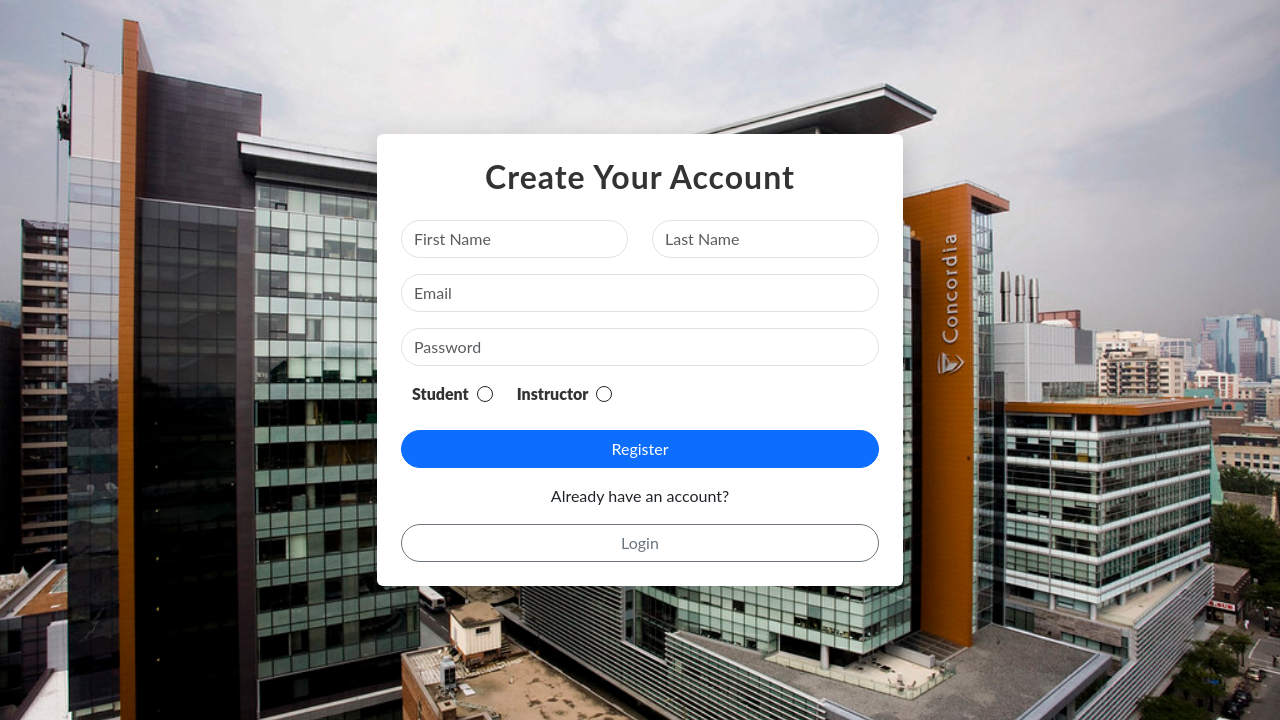
it: Register Component › displays an error message on failed submission
Type "Jane" into the field with placeholder "First Name" at point(514, 239), box x1=401 y1=220 x2=628 y2=258
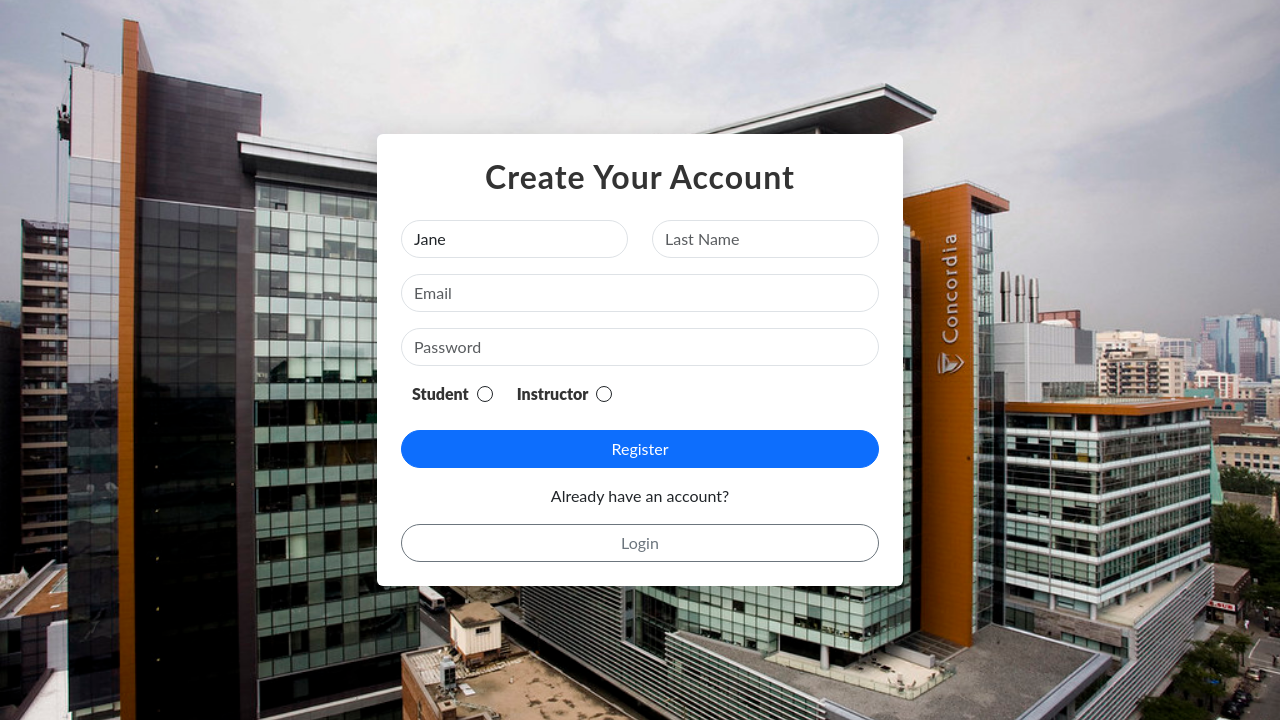
Type "Doe" into the field with placeholder "Last Name" at point(766, 239), box x1=652 y1=220 x2=879 y2=258
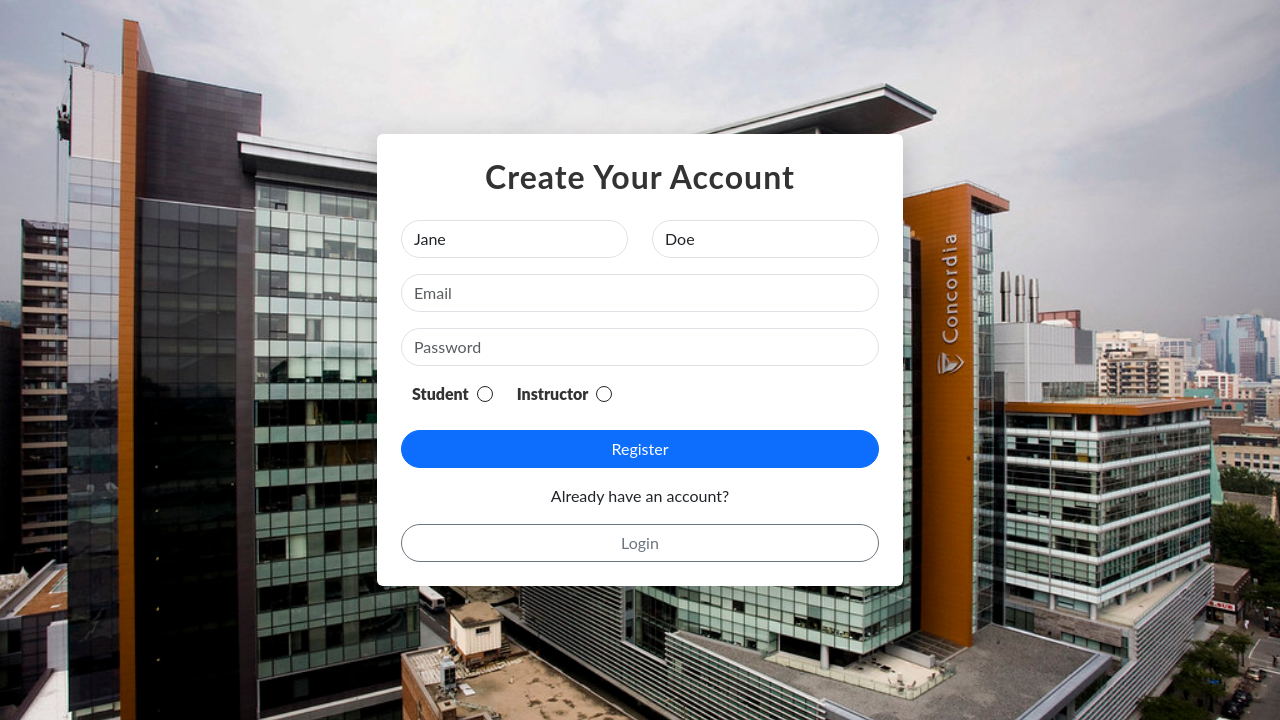
Type "janedoe@example.com" into the field with placeholder "Email" at point(640, 293), box x1=401 y1=274 x2=879 y2=312
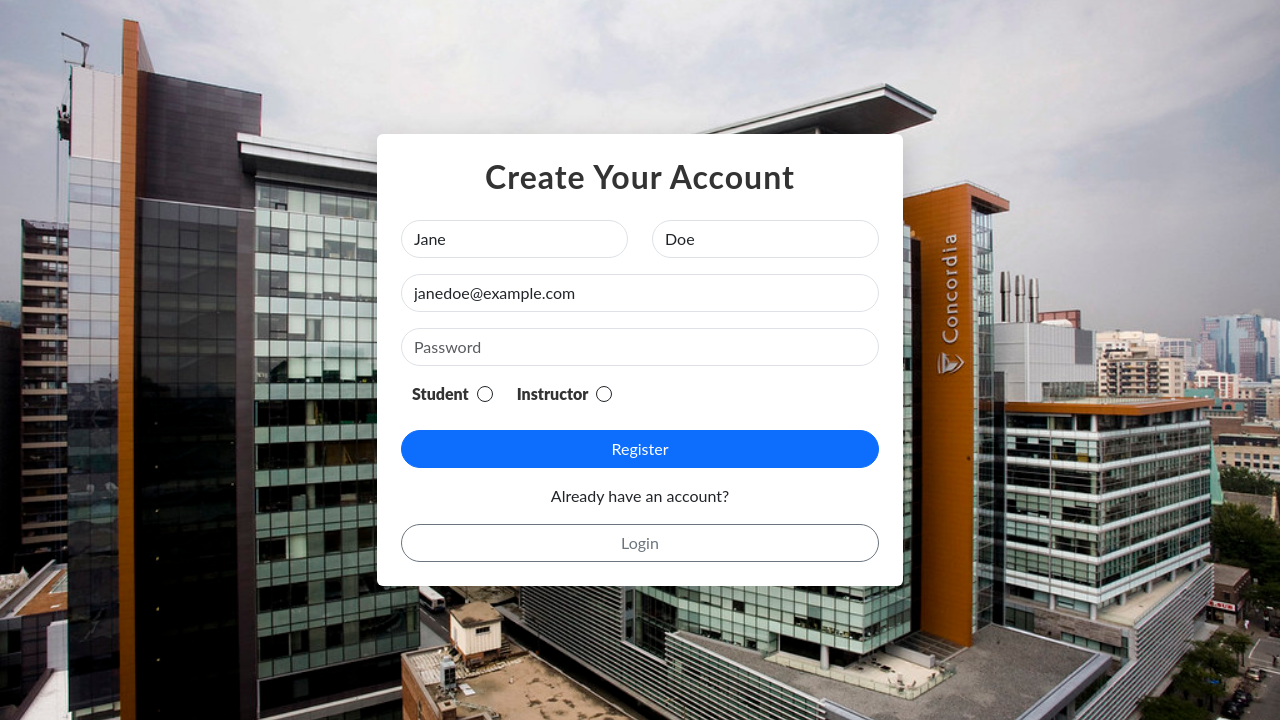
Type "password123" into the password field with placeholder "Password" at point(640, 347), box x1=401 y1=328 x2=879 y2=366
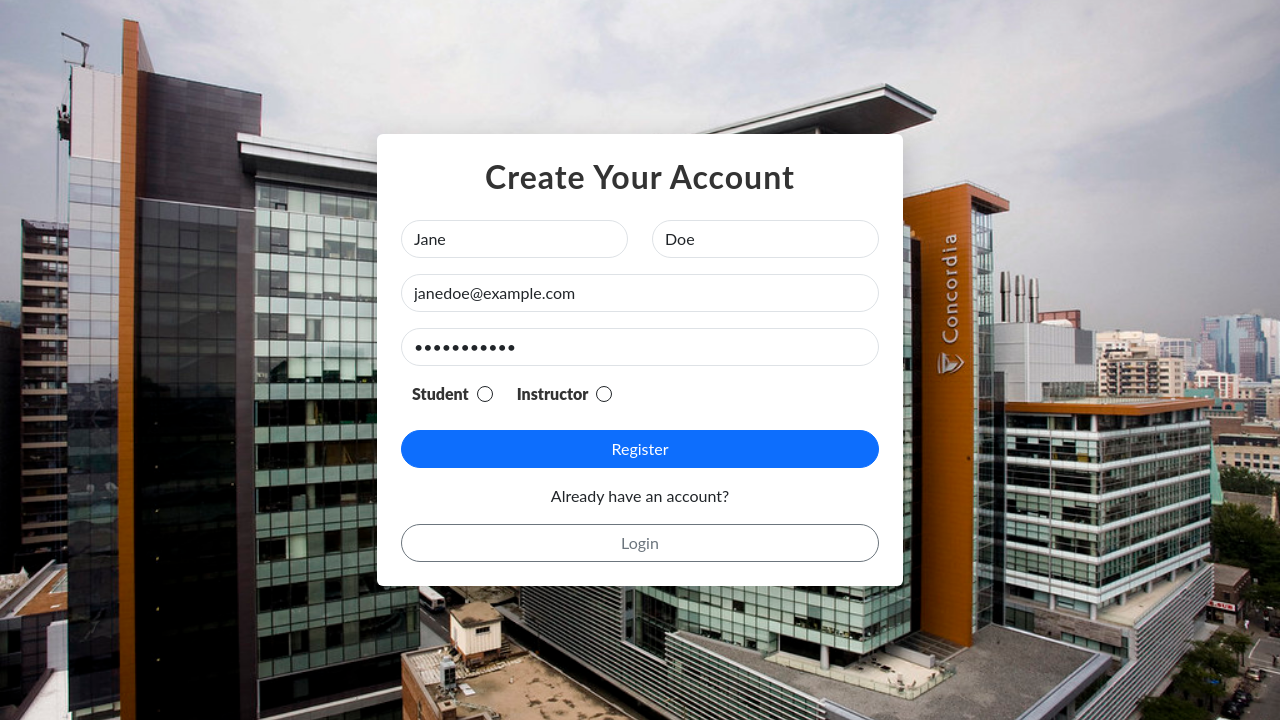
Click the radio button labelled "Instructor" at point(604, 394), box x1=596 y1=386 x2=612 y2=402
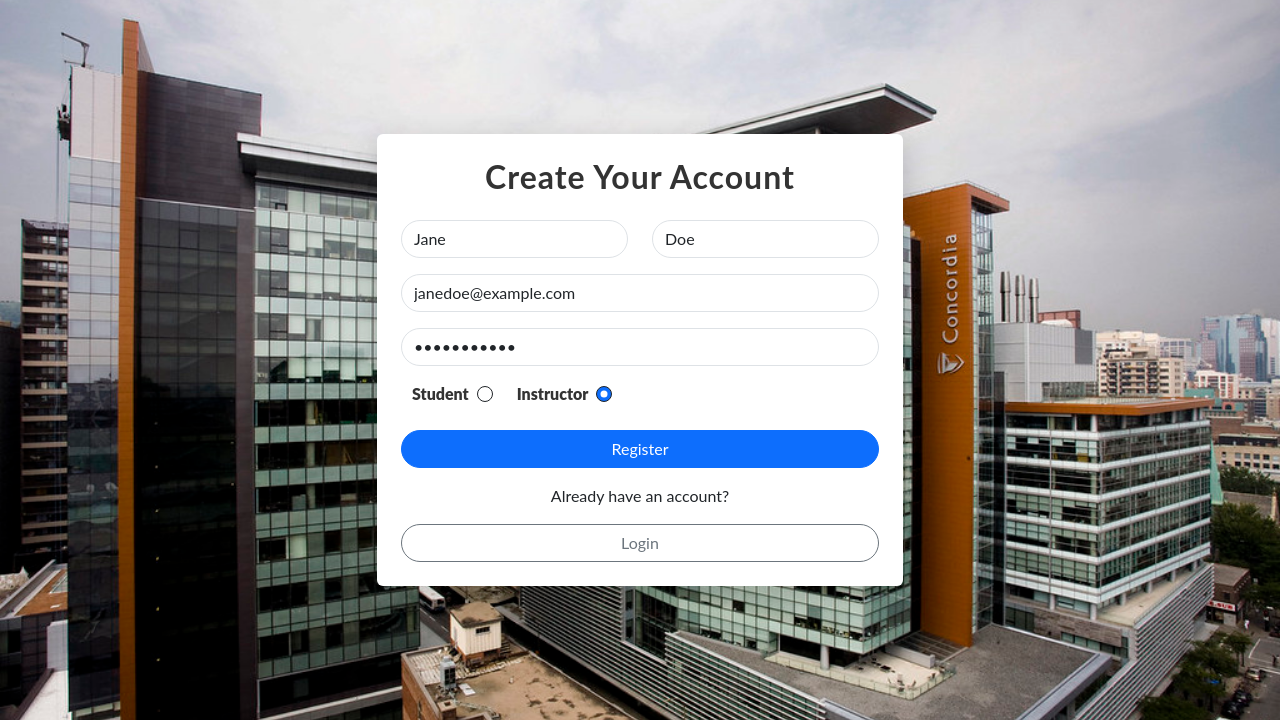
Click the button "Register" at point(640, 449), box x1=401 y1=430 x2=879 y2=468
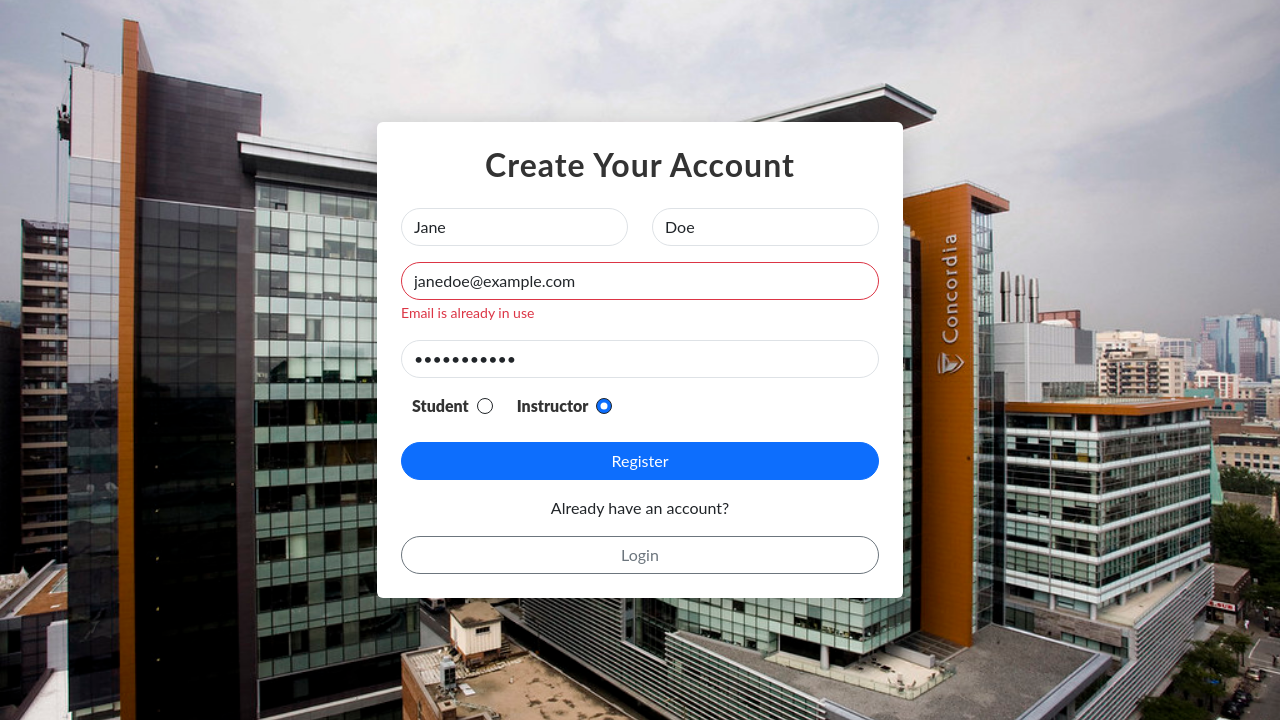
Expected: the text "Email is already in use" is shown, x1=401 y1=304 x2=534 y2=321
